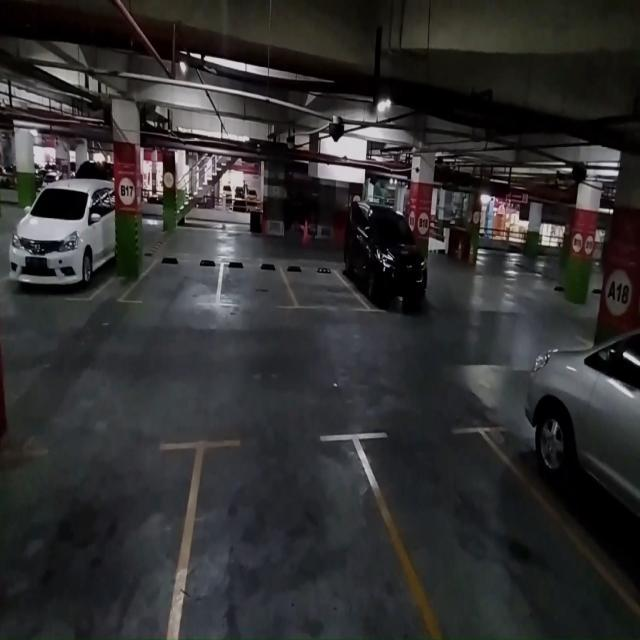empty: (184, 428, 410, 638), (366, 410, 542, 640), (133, 250, 219, 310), (216, 259, 293, 312), (288, 261, 352, 310)
occupied: (8, 185, 114, 302), (346, 225, 435, 313)
